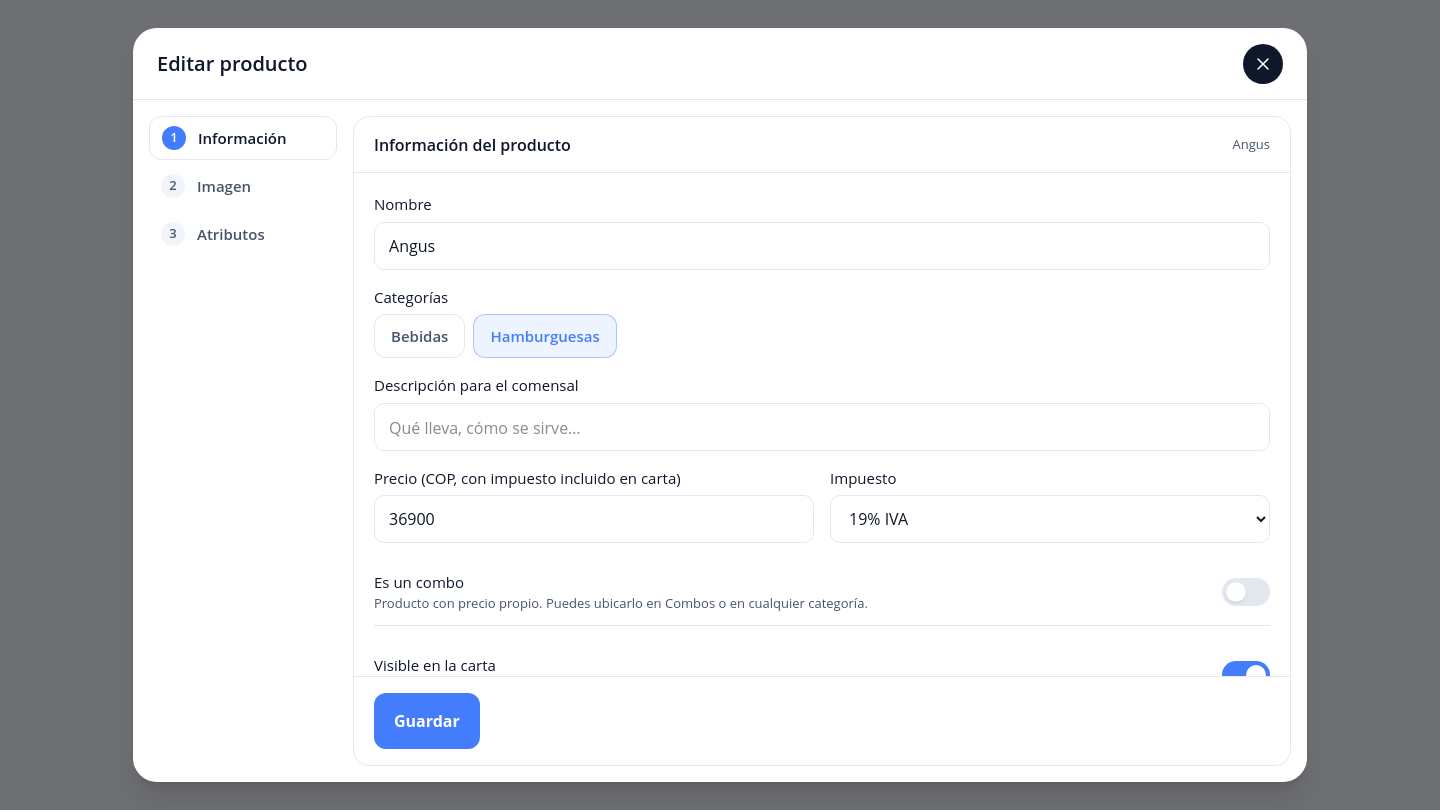
Test case: edits price and categories and saves them as numbers
Replace the text in the number field labelled "Precio (COP, con impuesto incluido en carta)" with "38900" at (594, 519), box [374,495,814,543]
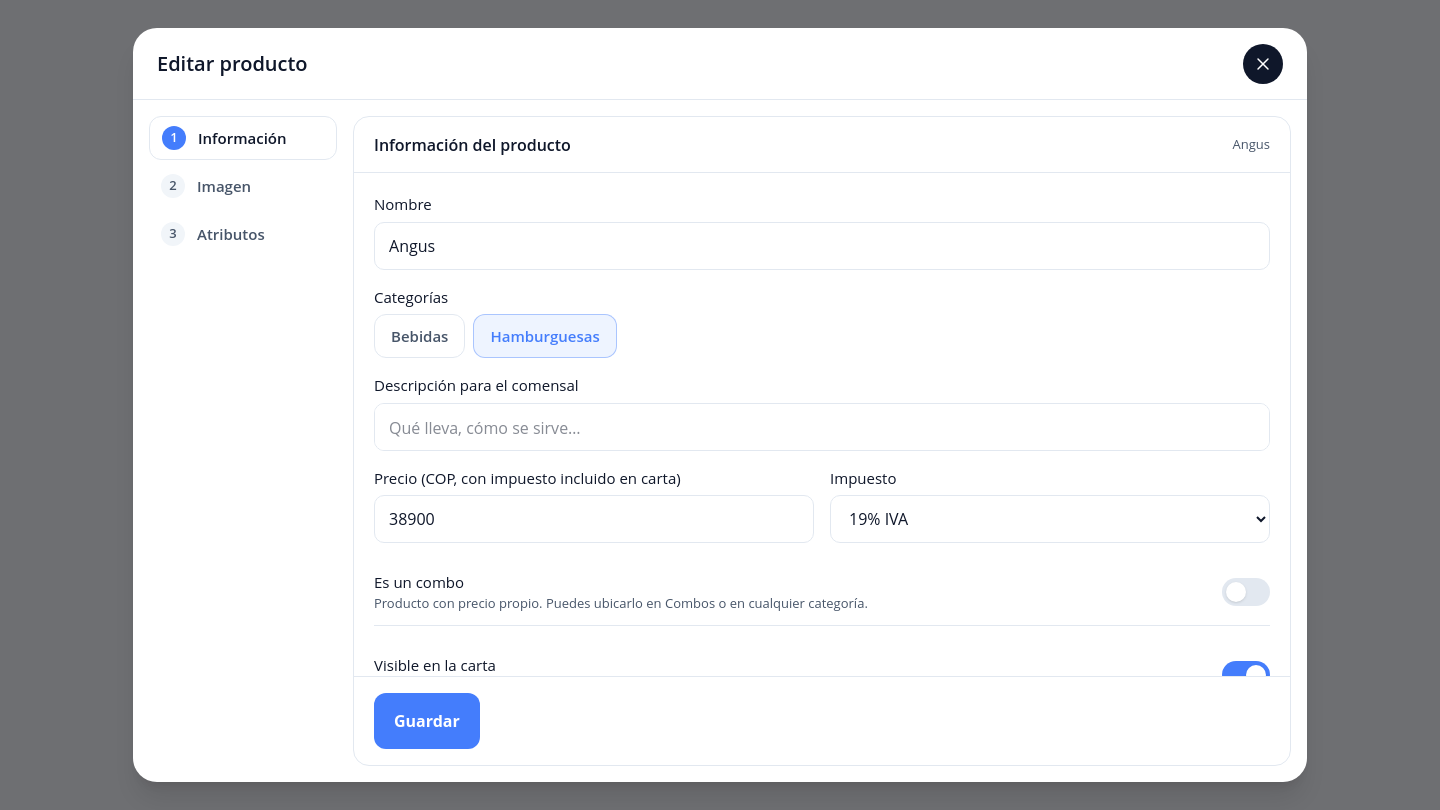
Click the button "Bebidas" at (420, 336), box [374,314,465,358]
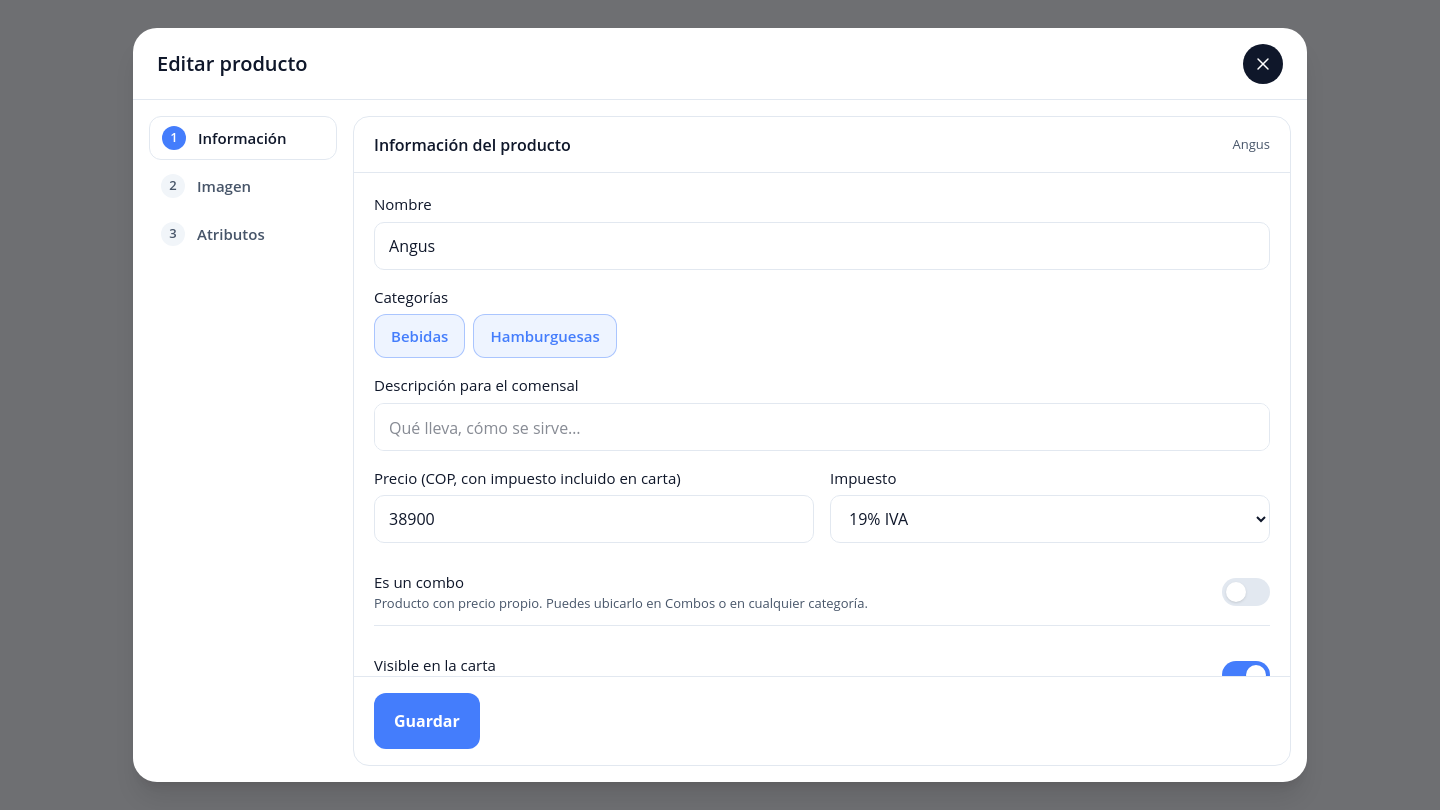
Click the button "Guardar" at (427, 721), box [374,693,480,749]
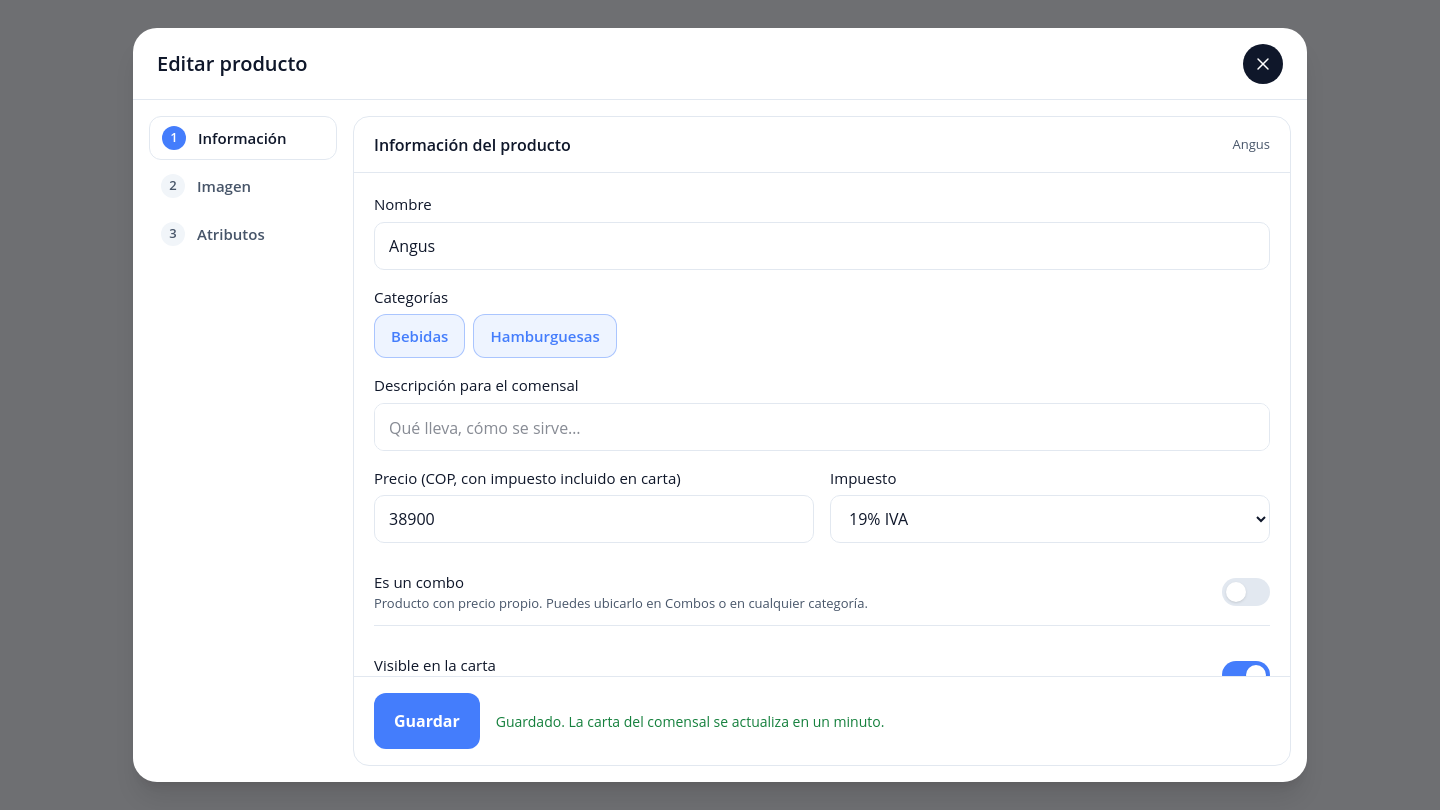
Expected: the message shows "Guardado", [496,712,884,730]
